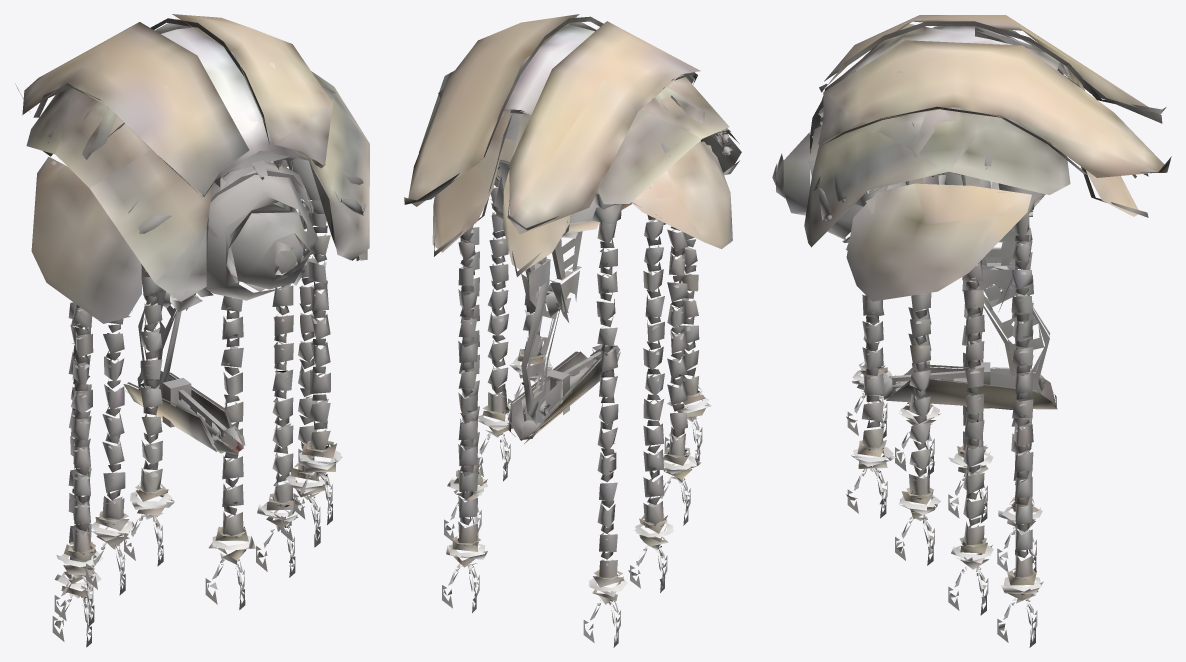
The model's file is robot.glb.
3 views of the same model, side by side, from view 1: azimuth 30°, elevation 25°; view 2: azimuth 150°, elevation 25°; view 3: azimuth 270°, elevation 25° (orthographic). The views are drawn at different scales.
Visible parts, largest first — view 1: low; view 2: low; view 3: low.
Part boxes in pixels (x1,y1,x2,y2): low: (15,14,369,647); low: (404,14,741,647); low: (772,15,1171,647).
Size of the model in its own units: 0.6832 by 1.3 by 0.8125.
1 material, 1 textured.
